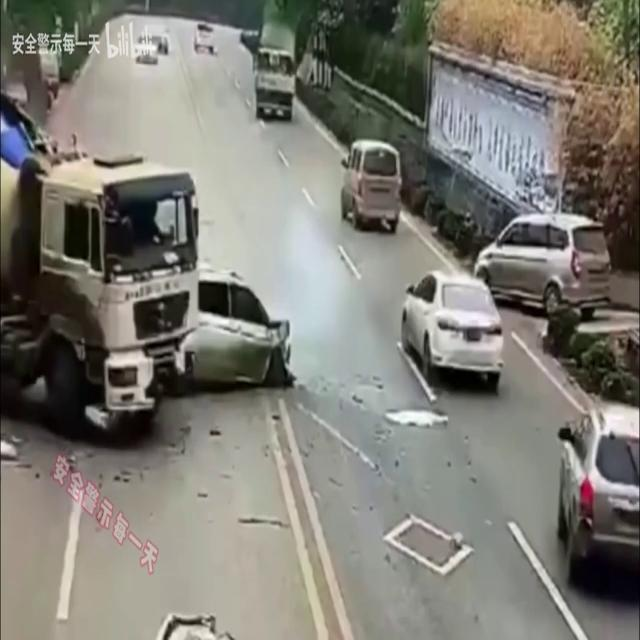multiple_accident: (0, 179, 296, 469)
normal: (547, 299, 638, 633)
